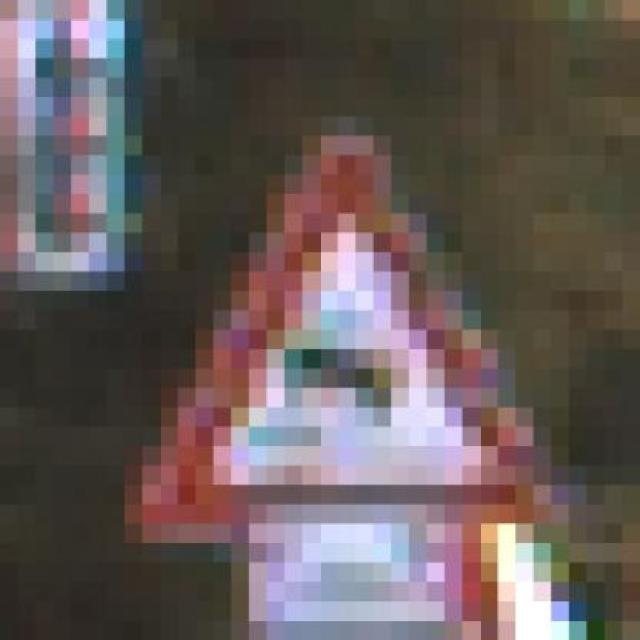Slippery Road Ahead: (89, 116, 569, 562)
